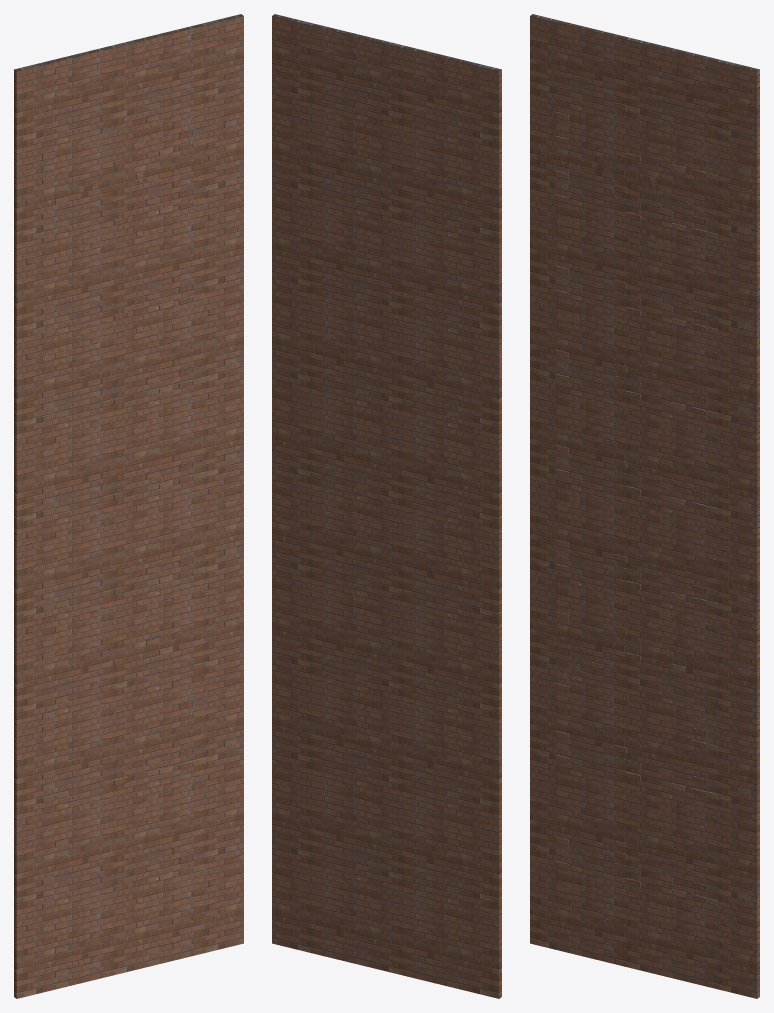
File: Tutorial_Model_Structure_BS1Wall_2.fbx
The picture shows the model from 3 angles, left to right: view 1: azimuth 30°, elevation 25°; view 2: azimuth 150°, elevation 25°; view 3: azimuth 330°, elevation 25°; orthographic projection.
Visible parts, largest first — view 1: Wall_2; view 2: Wall_2; view 3: Wall_2.
Part boxes in pixels (bbox=[...]): Wall_2: bbox=[14, 14, 243, 998]; Wall_2: bbox=[272, 14, 501, 998]; Wall_2: bbox=[530, 14, 759, 998].
Size of the model in its own units: 197 by 768 by 4.64.
1 material, 1 textured.
